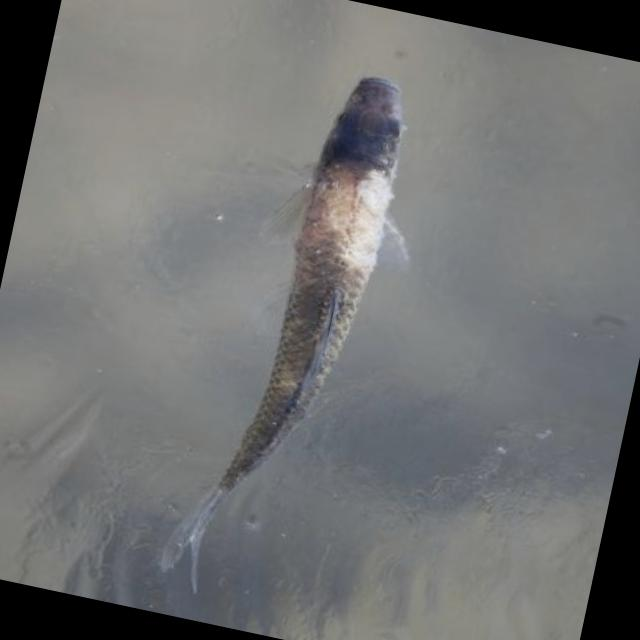Cakil Baligi: (144, 48, 456, 622)
